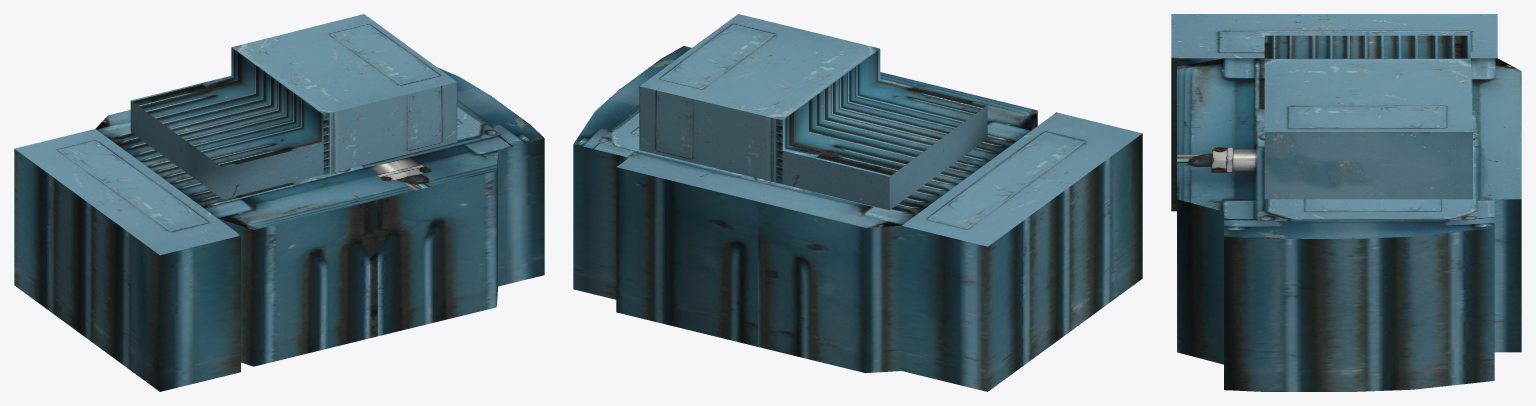
The model's file is industrial32.obj.
3 renders of one model, left to right at view 1: azimuth 30°, elevation 25°; view 2: azimuth 150°, elevation 25°; view 3: azimuth 270°, elevation 25°, orthographic. The views are drawn at different scales.
Visible parts, largest first — view 1: industrial32; view 2: industrial32; view 3: industrial32.
Boxes of the visible parts, x1,y1,x2,y2 form: industrial32: [14, 14, 544, 391]; industrial32: [573, 14, 1142, 391]; industrial32: [1171, 14, 1521, 391].
Bounding box in the file's own units: 43.62 × 19.92 × 28.69.
Materials: 1 (1 with a texture image).
